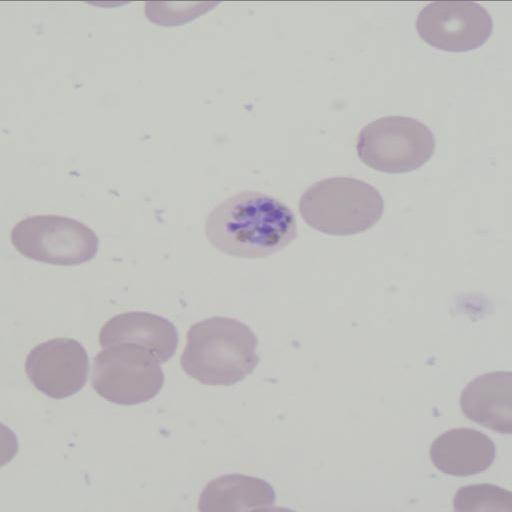Infected: (203, 191, 300, 258)
Uninfected: (297, 176, 384, 237), (181, 316, 258, 382), (357, 115, 437, 172), (13, 214, 99, 266), (100, 312, 178, 369), (25, 336, 94, 399), (92, 348, 165, 407), (416, 0, 493, 52), (460, 369, 512, 437), (431, 426, 498, 478)
